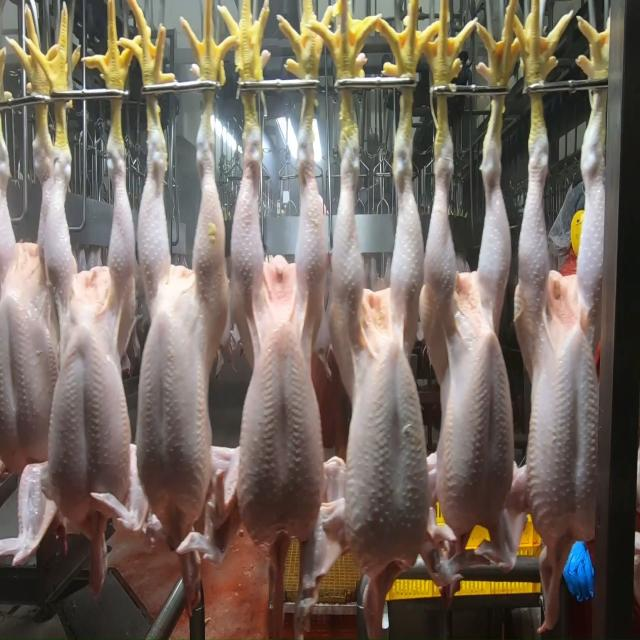chicken: (129, 94, 231, 522), (419, 116, 522, 531), (518, 126, 609, 544), (238, 124, 329, 540), (43, 150, 138, 524), (343, 137, 418, 558), (0, 114, 59, 476)
